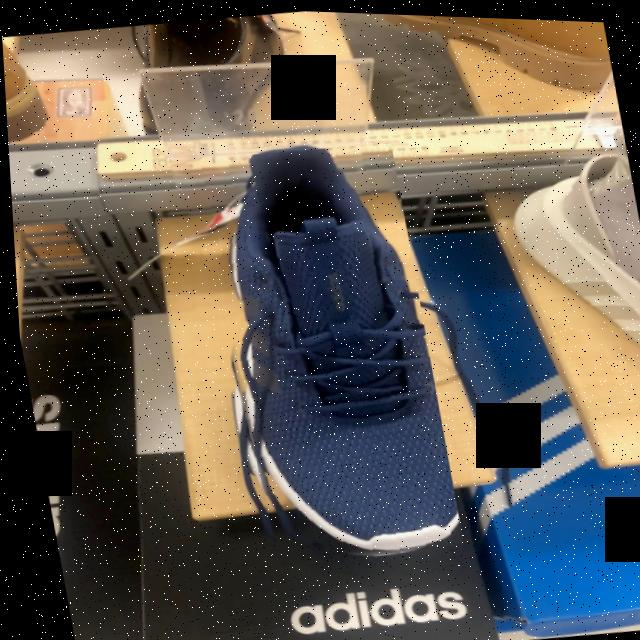shoe: (228, 149, 452, 552)
